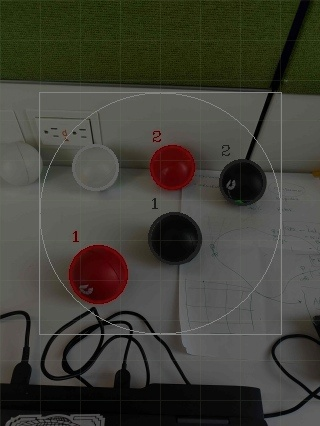Pelota blanca: (265, 331, 320, 416), (0, 308, 33, 384), (71, 142, 121, 192), (0, 140, 41, 187)
Pelota negra: (145, 209, 203, 264), (217, 158, 267, 206)
Pelota roja: (66, 244, 129, 304), (148, 142, 195, 192)
